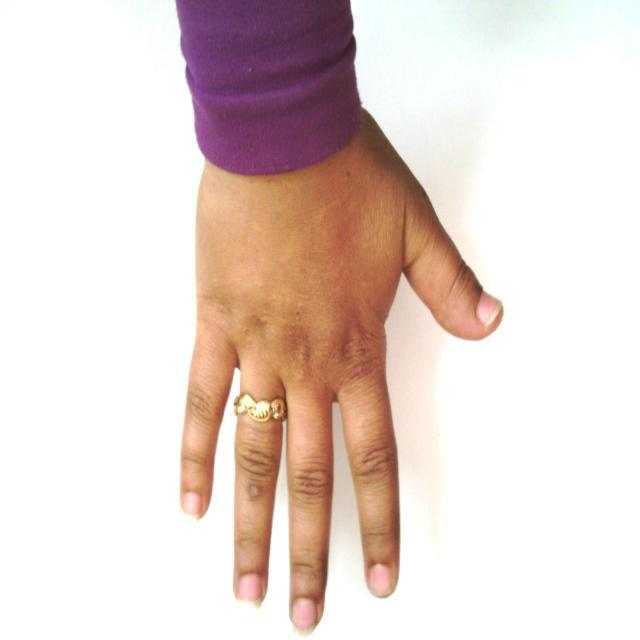Fingernail: (293, 599, 316, 634), (237, 574, 261, 605), (477, 295, 501, 326), (370, 564, 391, 596), (183, 493, 201, 517)
